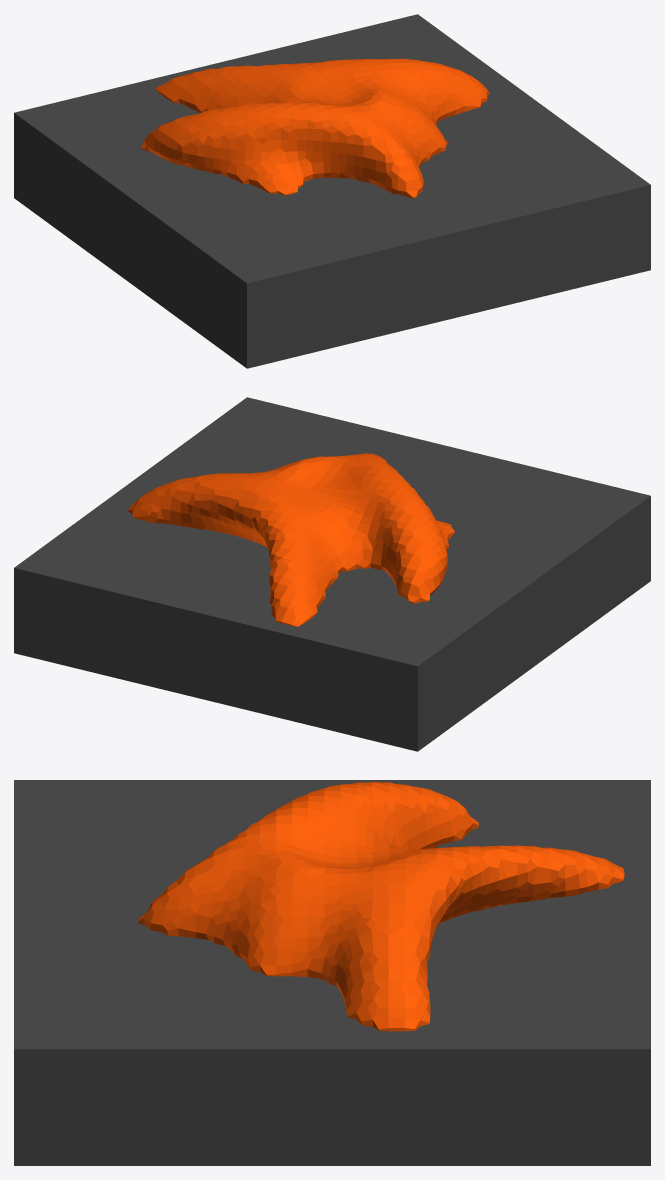
The model's file is Holds_01.fbx.
3 views of the same model, one above another, from view 1: azimuth 30°, elevation 25°; view 2: azimuth 150°, elevation 25°; view 3: azimuth 270°, elevation 25° (orthographic). The views are drawn at different scales.
Parts seen in each view (by area): view 1: 01.001; view 2: 01.001; view 3: 01.001.
Part boxes in pixels (box(x1,y1,x2,y2)): 01.001: box(14, 14, 650, 368); 01.001: box(14, 397, 650, 751); 01.001: box(14, 780, 650, 1165).
Size of the model in its own units: 19.8 by 6.85 by 19.8.
